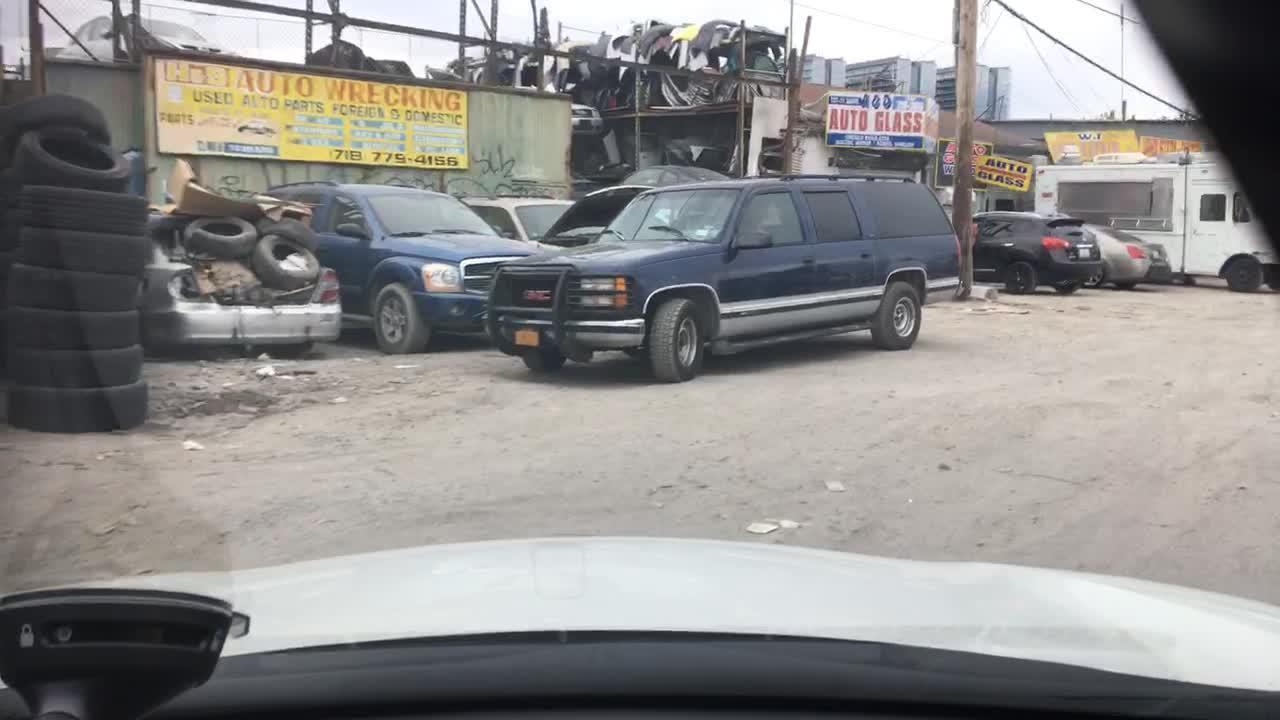GMC: (514, 284, 561, 308)
